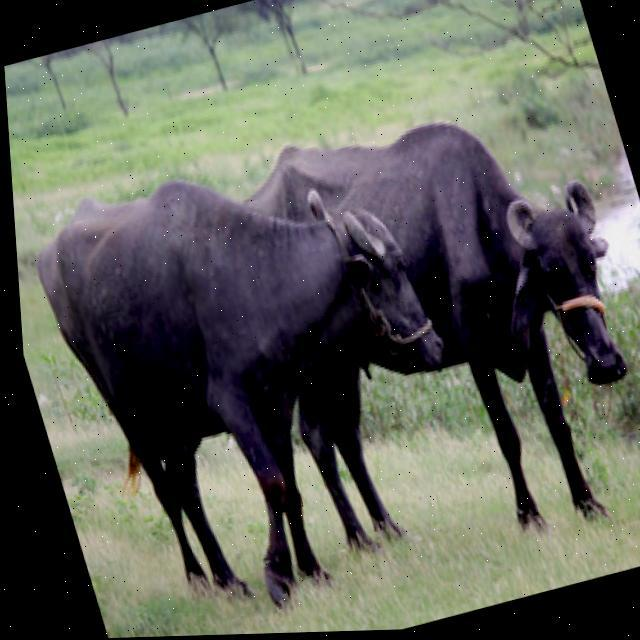Buffalo: (12, 114, 511, 632), (379, 85, 640, 540)
